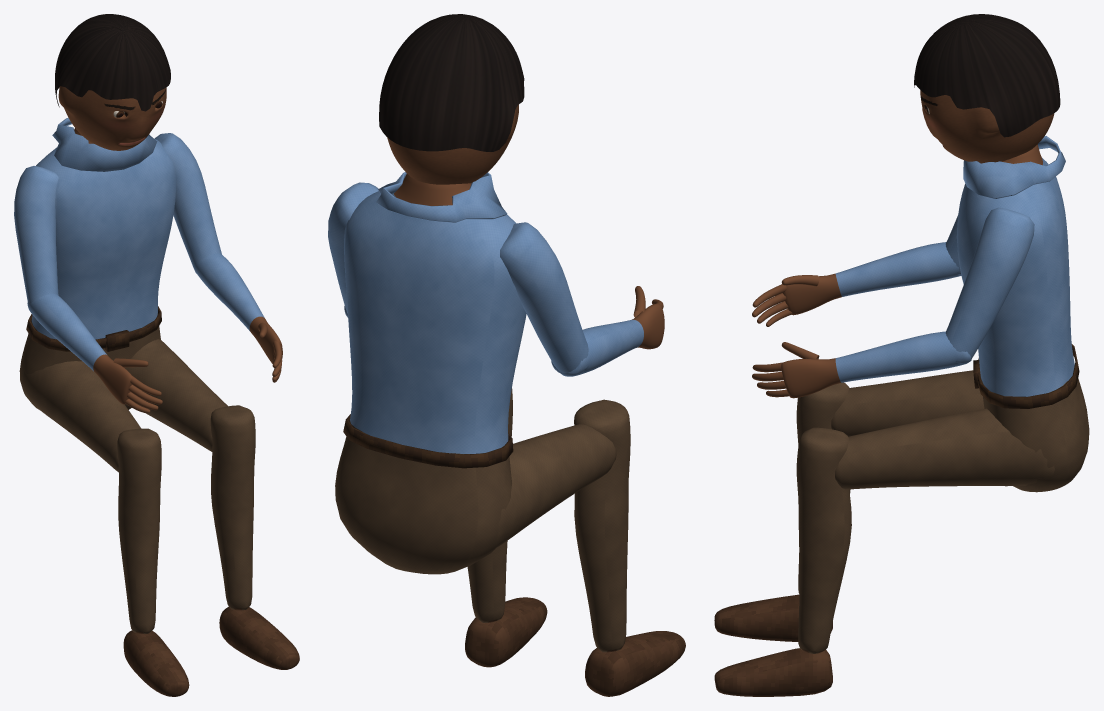
The model's file is persona_nino_sentado.obj.
3 views of the same model, side by side, from view 1: azimuth 30°, elevation 25°; view 2: azimuth 150°, elevation 25°; view 3: azimuth 270°, elevation 25° (orthographic). The views are drawn at different scales.
Parts seen in each view (by area): view 1: persona_nino_sentado; view 2: persona_nino_sentado; view 3: persona_nino_sentado.
Part boxes in pixels (x1=…): persona_nino_sentado: x1=14, y1=14, x2=299, y2=696; persona_nino_sentado: x1=328, y1=14, x2=685, y2=696; persona_nino_sentado: x1=714, y1=14, x2=1089, y2=696.
Bounding box in the file's own units: 0.3238 × 0.9354 × 0.491.
Materials: 12 (12 with a texture image).
